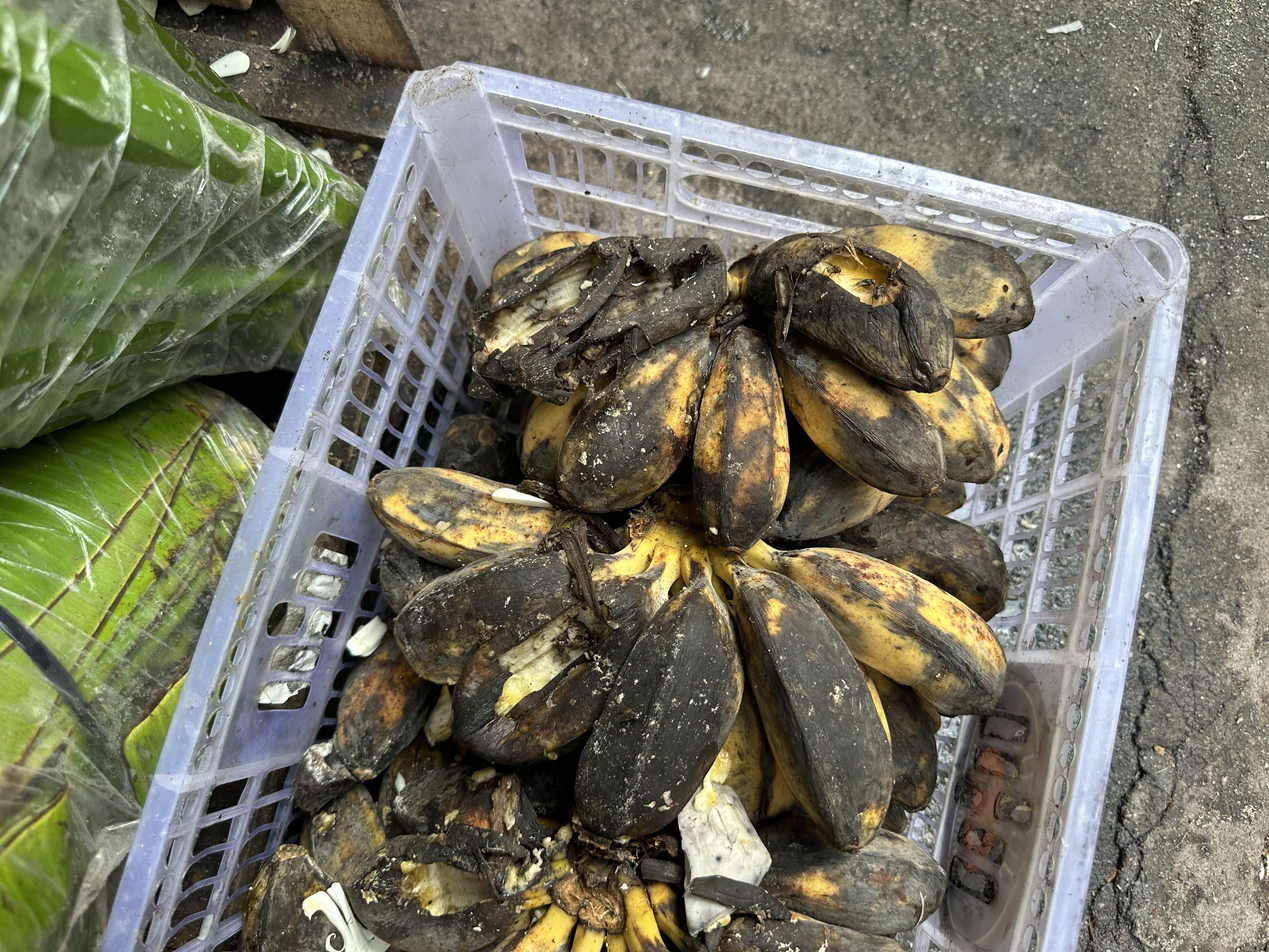overripe: (367, 443, 1007, 848), (524, 225, 1035, 550)
